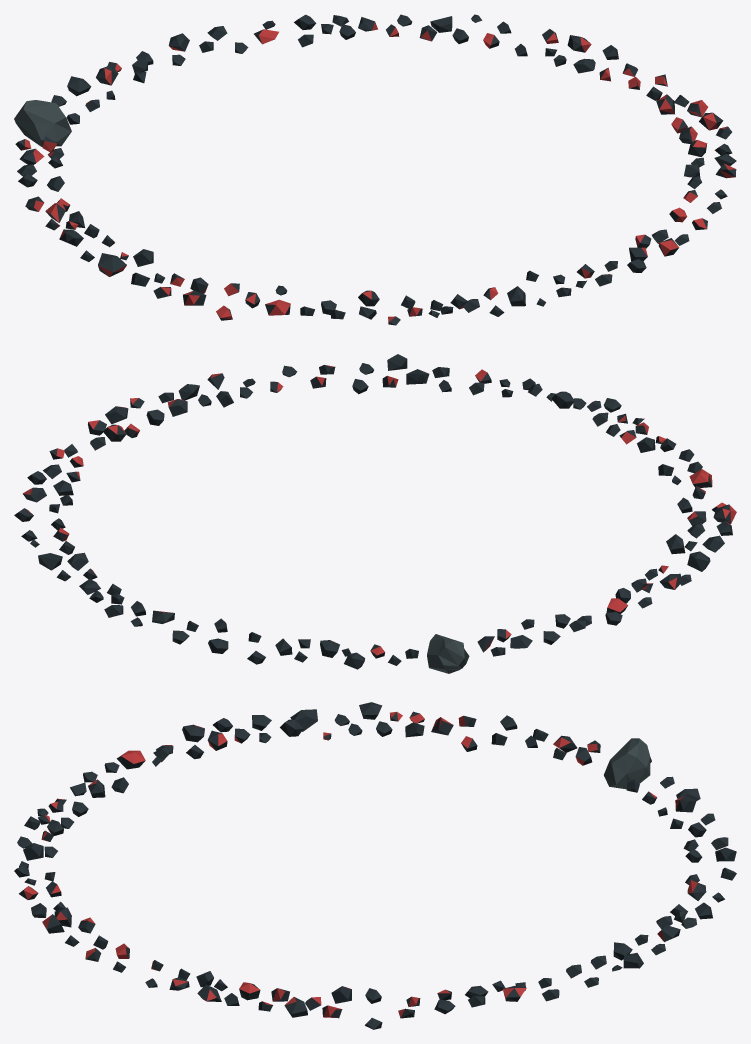
File: Broken_Planet_Rings_02_LOD0.fbx
3 renders of one model, top to bottom at view 1: azimuth 30°, elevation 25°; view 2: azimuth 150°, elevation 25°; view 3: azimuth 270°, elevation 25°, orthographic. The views are drawn at different scales.
Visible parts, largest first — view 1: Broken_Planet_Rings_02_LOD0; view 2: Broken_Planet_Rings_02_LOD0; view 3: Broken_Planet_Rings_02_LOD0.
Boxes of the visible parts, <box> form: Broken_Planet_Rings_02_LOD0: <box>14,14,736,325</box>; Broken_Planet_Rings_02_LOD0: <box>14,354,736,673</box>; Broken_Planet_Rings_02_LOD0: <box>14,702,736,1029</box>.
Bounding box in the file's own units: 37382 × 2365 × 37306.
